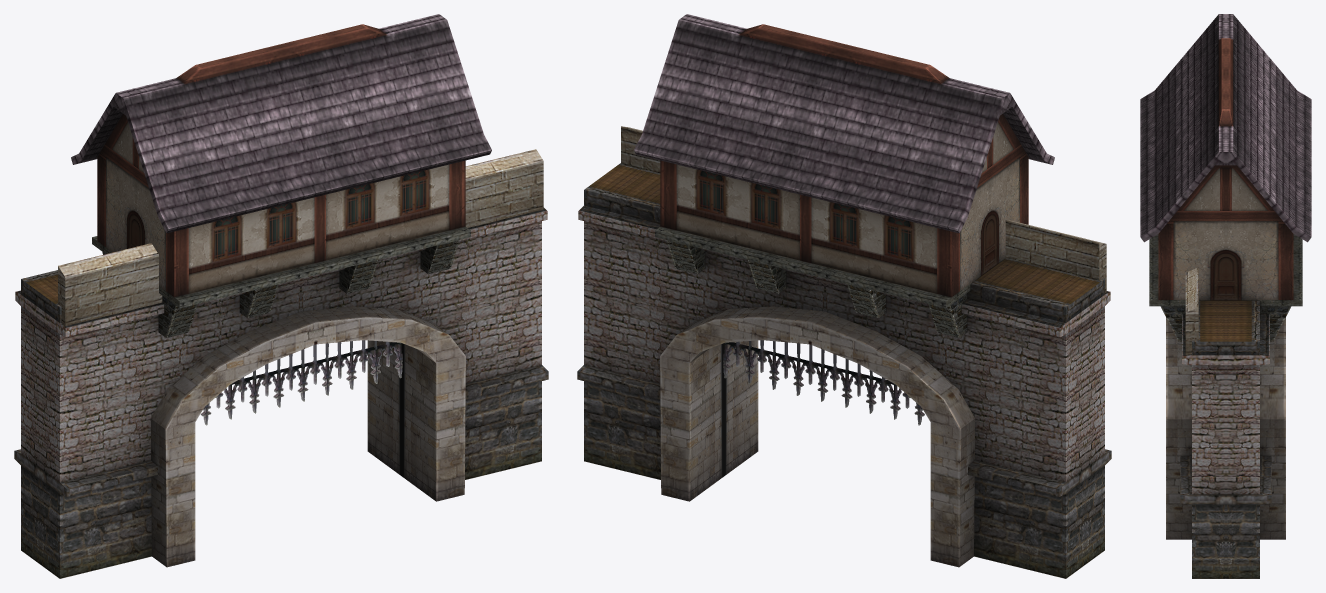
The model's file is MEB_Gate.fbx.
3 renders of one model, left to right at view 1: azimuth 30°, elevation 25°; view 2: azimuth 150°, elevation 25°; view 3: azimuth 270°, elevation 25°, orthographic. The views are drawn at different scales.
Visible parts, largest first — view 1: MEB_Gate; view 2: MEB_Gate; view 3: MEB_Gate.
Boxes of the visible parts, x1,y1,x2,y2 form: MEB_Gate: (14, 14, 548, 578); MEB_Gate: (577, 14, 1111, 578); MEB_Gate: (1140, 14, 1311, 578).
Bounding box in the file's own units: 1393 × 1270 × 490.
